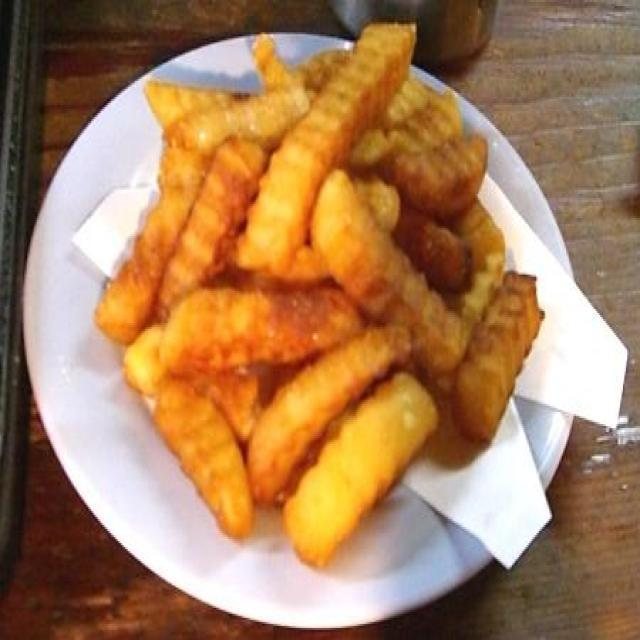French Fries: (106, 20, 528, 508)
